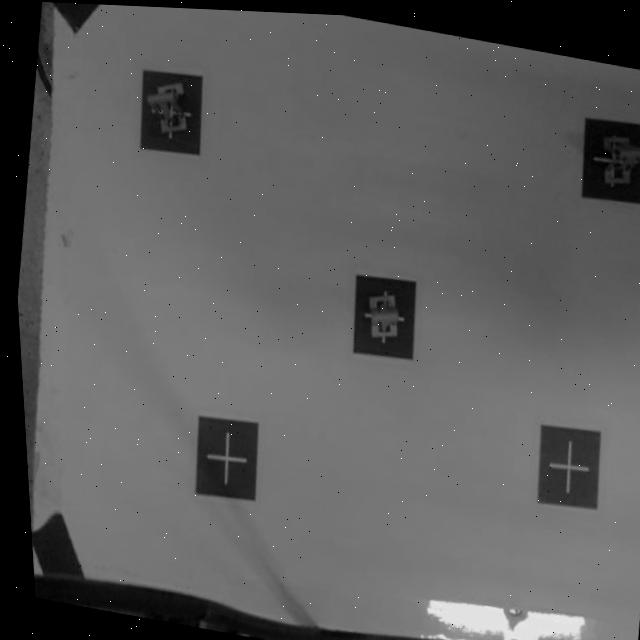pick3: (351, 277, 419, 363)
pick4: (570, 115, 640, 207)
pick5: (130, 63, 211, 159)
